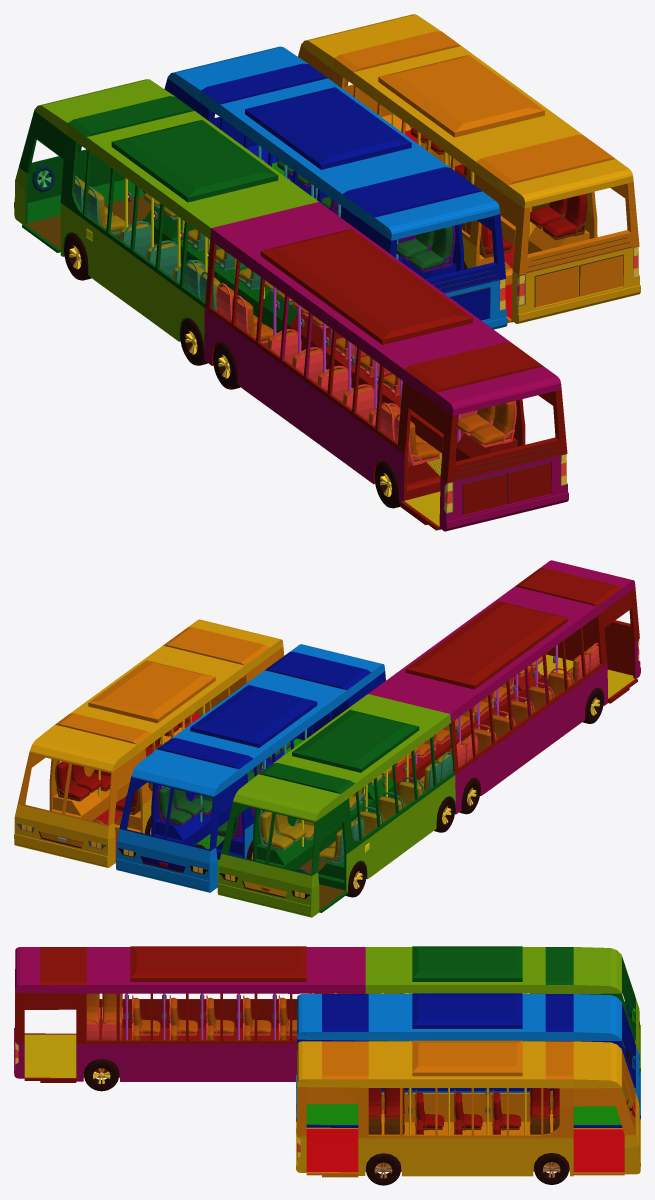
File: Bus (1).fbx
3 views of the same model, one above another, from view 1: azimuth 30°, elevation 25°; view 2: azimuth 150°, elevation 25°; view 3: azimuth 270°, elevation 25° (orthographic). The views are drawn at different scales.
Parts seen in each view (by area): view 1: Bus 3/4, Bus 1, Bus 2, Boden 3/4; view 2: Bus 3/4, Bus 1, Bus 2, Boden 3/4; view 3: Bus 3/4, Bus 1, Bus 2, Boden 1, Boden 3/4, Boden 2.
Part boxes in pixels (x1,y1,x2,y2): Bus 3/4: (14, 79, 568, 531); Bus 1: (298, 14, 640, 323); Bus 2: (164, 46, 507, 329); Boden 3/4: (25, 195, 442, 526); Bus 3/4: (217, 560, 640, 917); Bus 1: (14, 619, 284, 867); Bus 2: (115, 644, 385, 892); Boden 3/4: (296, 654, 634, 910); Bus 3/4: (14, 946, 640, 1091); Bus 1: (296, 1040, 640, 1185); Bus 2: (296, 993, 640, 1127); Boden 1: (306, 1129, 624, 1172); Boden 3/4: (24, 1034, 624, 1077); Boden 2: (306, 1087, 624, 1124).
Size of the model in its own units: 369 by 136 by 700.
